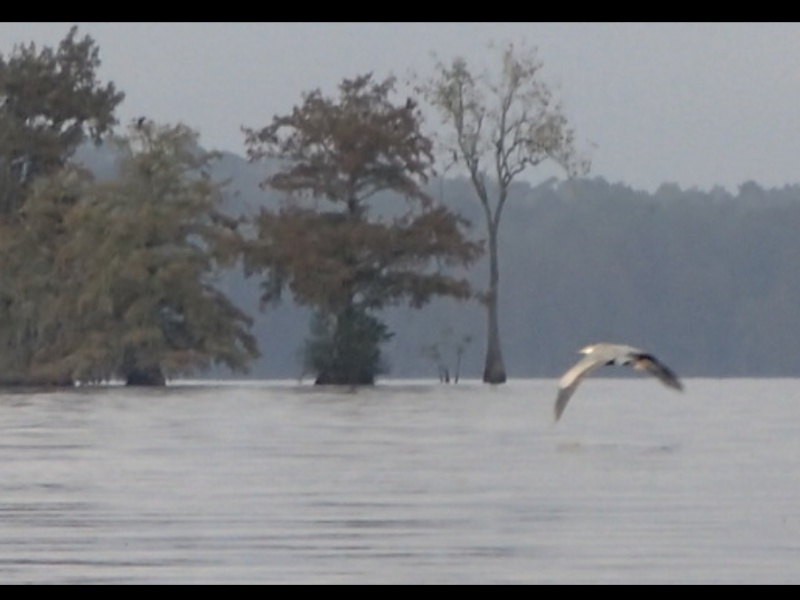heron: (548, 340, 689, 427)
